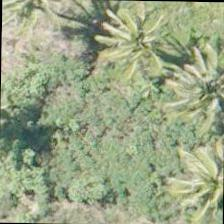Kelapa_Sawit: (98, 0, 191, 89), (168, 46, 223, 138), (168, 135, 223, 223)
